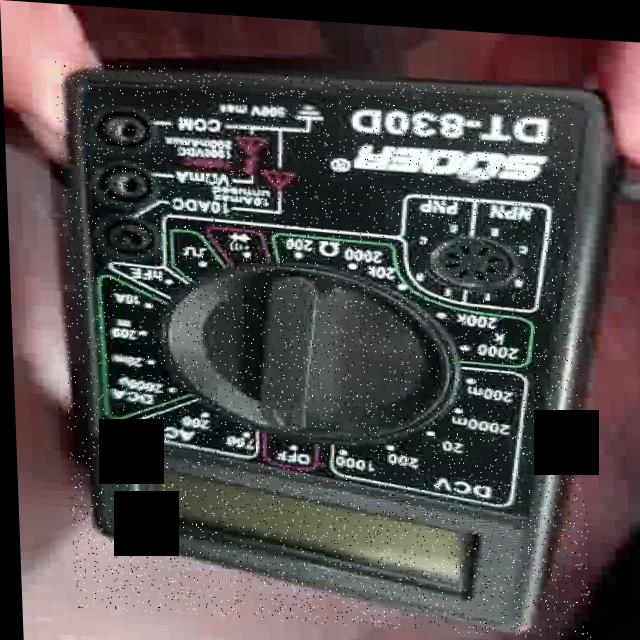multimeter: (54, 59, 588, 634)
